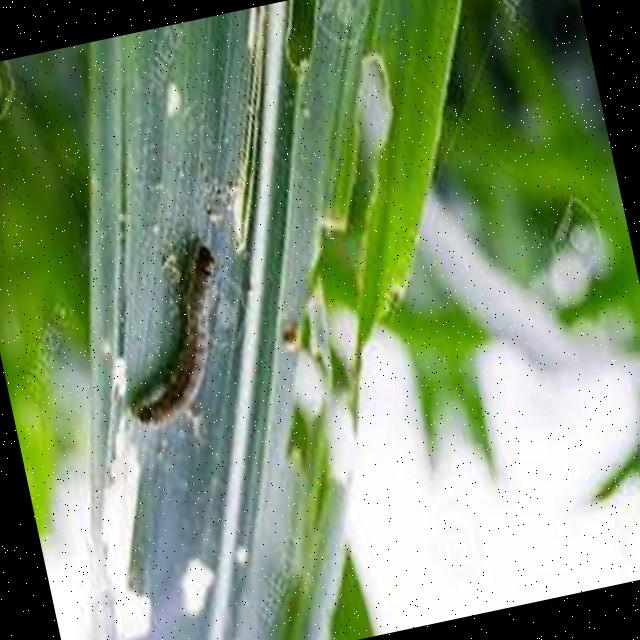worm: (95, 229, 251, 433)
